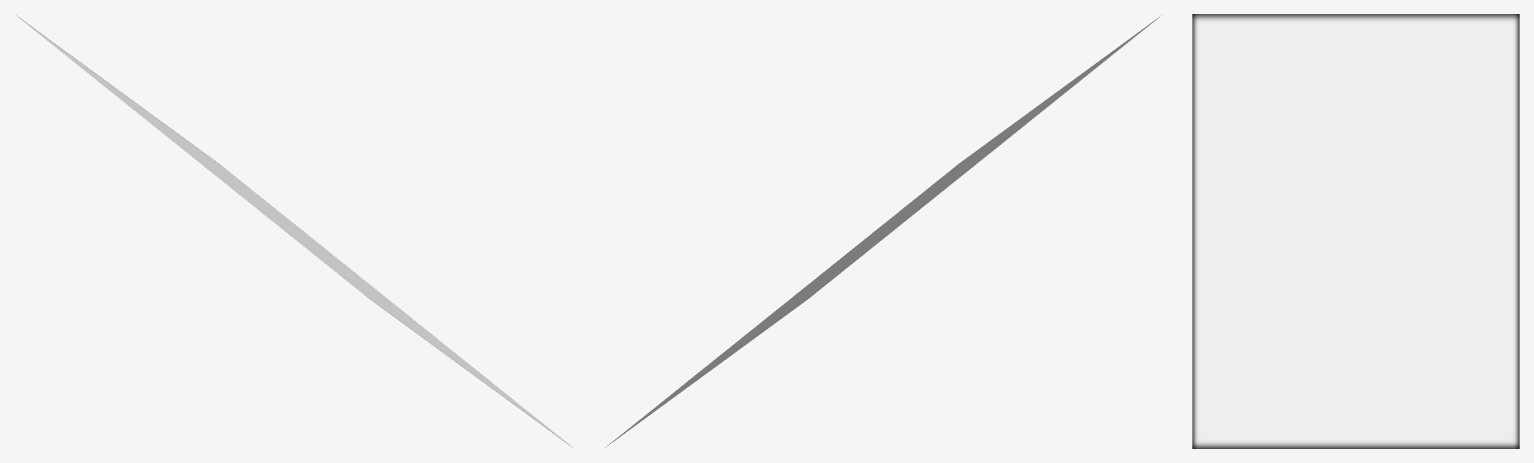
File: slope_0-side.fbx
The picture shows the model from 3 angles, left to right: view 1: azimuth 30°, elevation 25°; view 2: azimuth 150°, elevation 25°; view 3: azimuth 270°, elevation 25°; orthographic projection. The views are drawn at different scales.
Parts seen in each view (by area): view 1: slope_0-side; view 2: slope_0-side; view 3: slope_0-side.
Boxes of the visible parts, x1,y1,x2,y2 form: slope_0-side: (16,15,572,447); slope_0-side: (605,15,1161,447); slope_0-side: (1192,14,1519,448).
Bounding box in the file's own units: 100 × 100 × 100.
